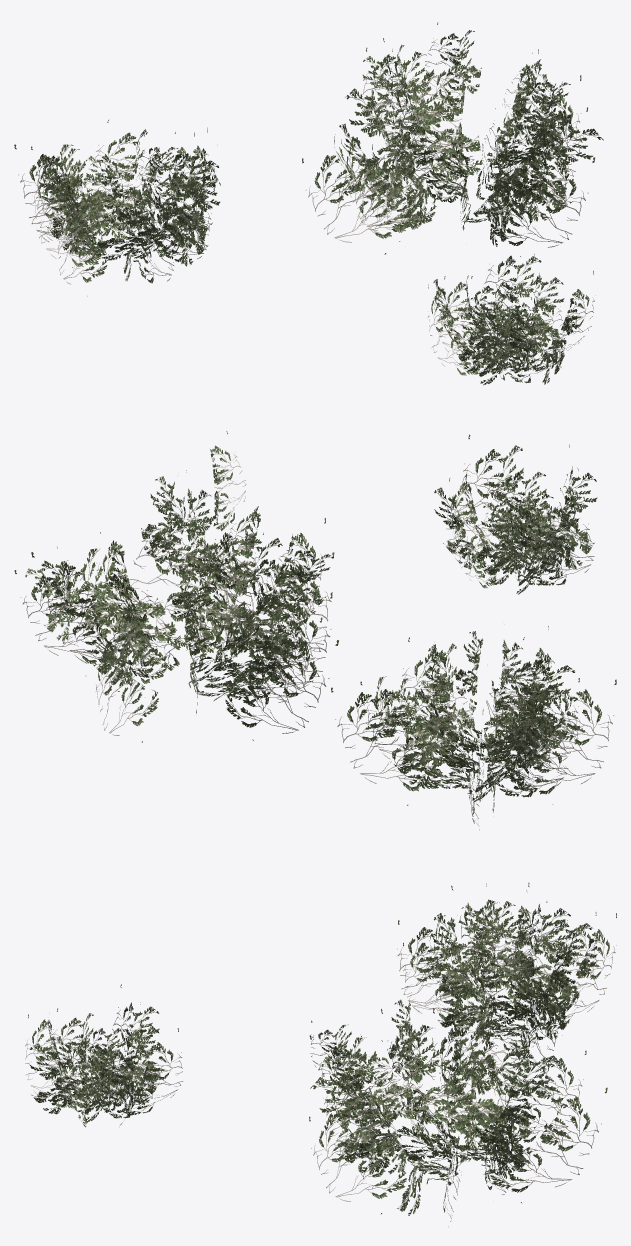
Rendered from creosote.glb.
The picture shows the model from 3 angles, top to bottom: view 1: azimuth 30°, elevation 25°; view 2: azimuth 150°, elevation 25°; view 3: azimuth 270°, elevation 25°; orthographic projection. The views are drawn at different scales.
Visible parts, largest first — view 1: geometry_0; view 2: geometry_0; view 3: geometry_0.
Boxes of the visible parts, x1,y1,x2,y2 form: geometry_0: (14, 22, 603, 385); geometry_0: (14, 431, 616, 830); geometry_0: (25, 882, 616, 1226).
Bounding box in the file's own units: 895 × 375 × 900.
Materials: 1 (1 with a texture image).
